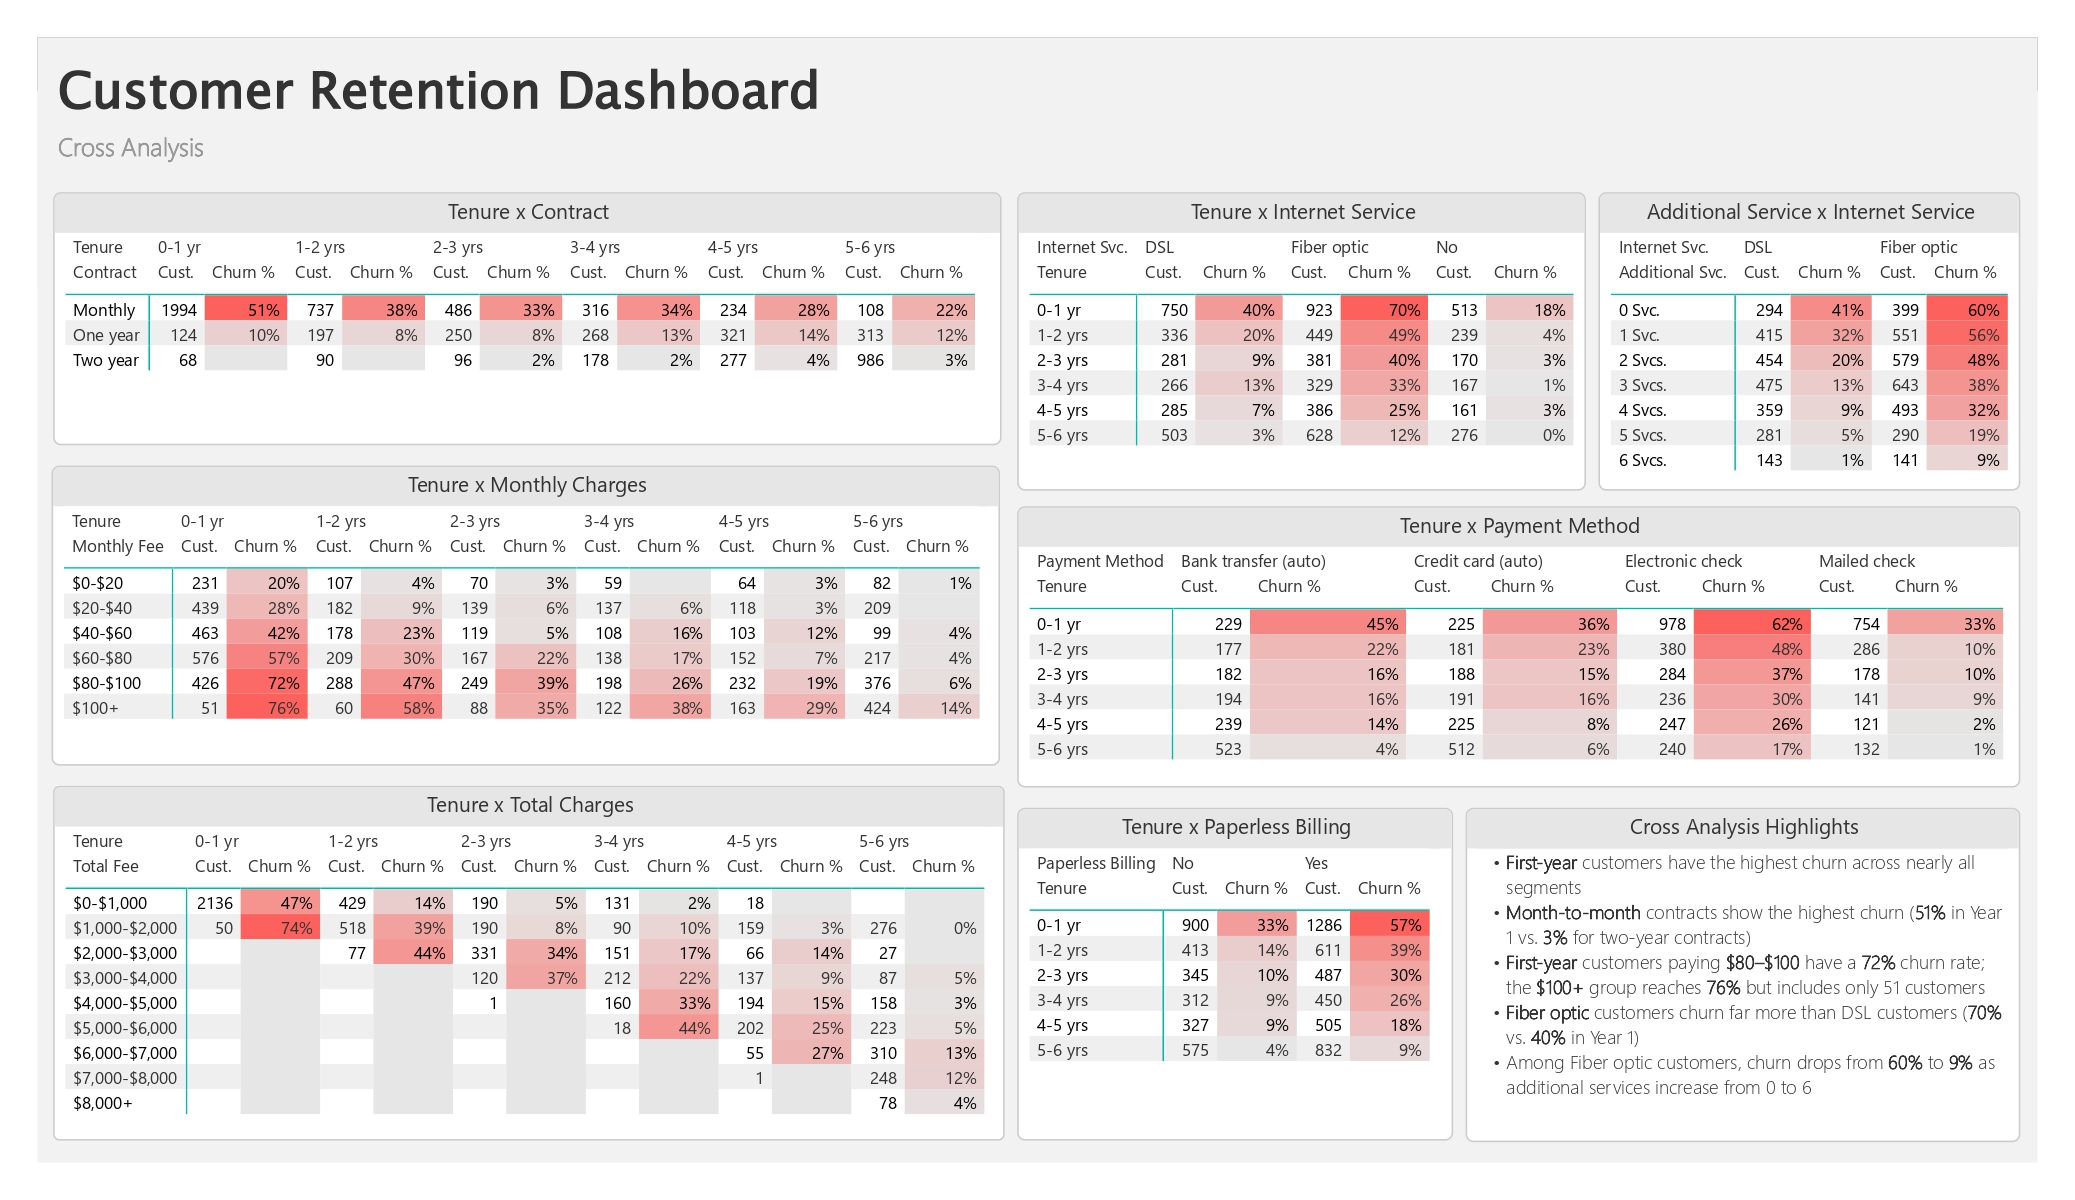

Layout of this report page (visuals, bound fields, positions):
{"tool":"powerbi","page":{"name":"Cross Analysis","canvas":[1280,720],"ordinal":2},"visuals":[{"type":"pivotTable","title":"Tenure x Contract","fields":{"Values":["CountNonNull(01 Churn-Dataset.customerID)","01 Churn-Dataset.Churn Rate"],"Rows":["01 Churn-Dataset.Contract"],"Columns":["01 Churn-Dataset.tenure (groups)"]},"box":[10,99,607,162],"z":0},{"type":"pivotTable","title":"Tenure x Total Charges","fields":{"Values":["CountNonNull(01 Churn-Dataset.customerID)","01 Churn-Dataset.Churn Rate"],"Columns":["01 Churn-Dataset.tenure (groups)"],"Rows":["01 Churn-Dataset.Total Charges Group"]},"box":[10,478.7,608.7,227.3],"z":1000},{"type":"pivotTable","title":"Tenure x Monthly Charges","fields":{"Columns":["01 Churn-Dataset.tenure (groups)"],"Values":["CountNonNull(01 Churn-Dataset.customerID)","01 Churn-Dataset.Churn Rate"],"Rows":["01 Churn-Dataset.Monthly Charge Group"]},"box":[8.6,273.6,607.9,192.9],"z":2000},{"type":"textbox","title":"Customer Retention Analysis","box":[8.3,5,673.3,93.3],"z":3000},{"type":"pivotTable","title":"Tenure x Internet Service","fields":{"Values":["CountNonNull(01 Churn-Dataset.customerID)","01 Churn-Dataset.Churn Rate"],"Columns":["Customer Churn Dataset.InternetService"],"Rows":["Customer Churn Dataset.tenure (groups)"]},"box":[627.1,98.6,364.3,191.4],"z":4000},{"type":"pivotTable","title":"Additional Service x Internet Service","fields":{"Values":["CountNonNull(01 Churn-Dataset.customerID)","01 Churn-Dataset.Churn Rate"],"Columns":["Customer Churn Dataset.InternetService"],"Rows":["Customer Churn Dataset.Additional Service Group"]},"box":[998.6,98.6,270,191.4],"z":5000},{"type":"pivotTable","title":"Tenure x Payment Method","fields":{"Values":["CountNonNull(01 Churn-Dataset.customerID)","01 Churn-Dataset.Churn Rate"],"Columns":["Customer Churn Dataset.PaymentMethod"],"Rows":["Customer Churn Dataset.tenure (groups)"]},"box":[627.1,300,641.4,180],"z":6000},{"type":"pivotTable","title":"Tenure x Paperless Billing","fields":{"Values":["CountNonNull(01 Churn-Dataset.customerID)","01 Churn-Dataset.Churn Rate"],"Columns":["Customer Churn Dataset.PaperlessBilling"],"Rows":["Customer Churn Dataset.tenure (groups)"]},"box":[627.1,492.9,278.6,212.9],"z":7000},{"type":"textbox","title":"Cross Analysis Highlights","box":[914.3,492.9,354.3,214.3],"z":8000}]}

Visuals, with their boxes on the page's 1280x720 design canvas (x1, y1, x2, y2). These are canvas units, not pixel positions in the 2075x1200 screenshot, which may show the page scaled, cropped or inside an application window:
"Tenure x Contract" pivotTable: bbox=(10, 99, 617, 261)
"Tenure x Total Charges" pivotTable: bbox=(10, 479, 619, 706)
"Tenure x Monthly Charges" pivotTable: bbox=(9, 274, 616, 466)
"Customer Retention Analysis" textbox: bbox=(8, 5, 682, 98)
"Tenure x Internet Service" pivotTable: bbox=(627, 99, 991, 290)
"Additional Service x Internet Service" pivotTable: bbox=(999, 99, 1269, 290)
"Tenure x Payment Method" pivotTable: bbox=(627, 300, 1268, 480)
"Tenure x Paperless Billing" pivotTable: bbox=(627, 493, 906, 706)
"Cross Analysis Highlights" textbox: bbox=(914, 493, 1269, 707)
